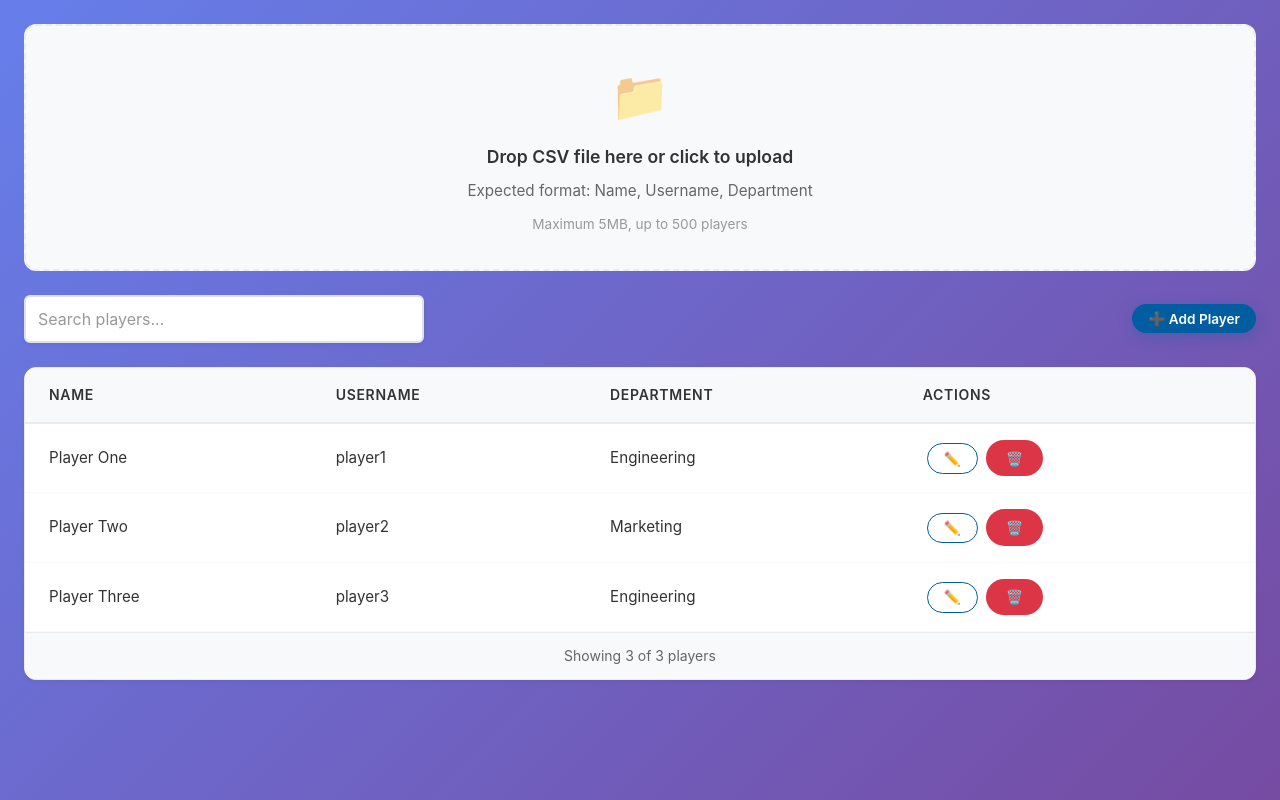
Scenario: PlayerManagement Component › Add Player › should cancel add operation
Click the button "➕ Add Player": (1194, 319) [1132,304,1256,333]
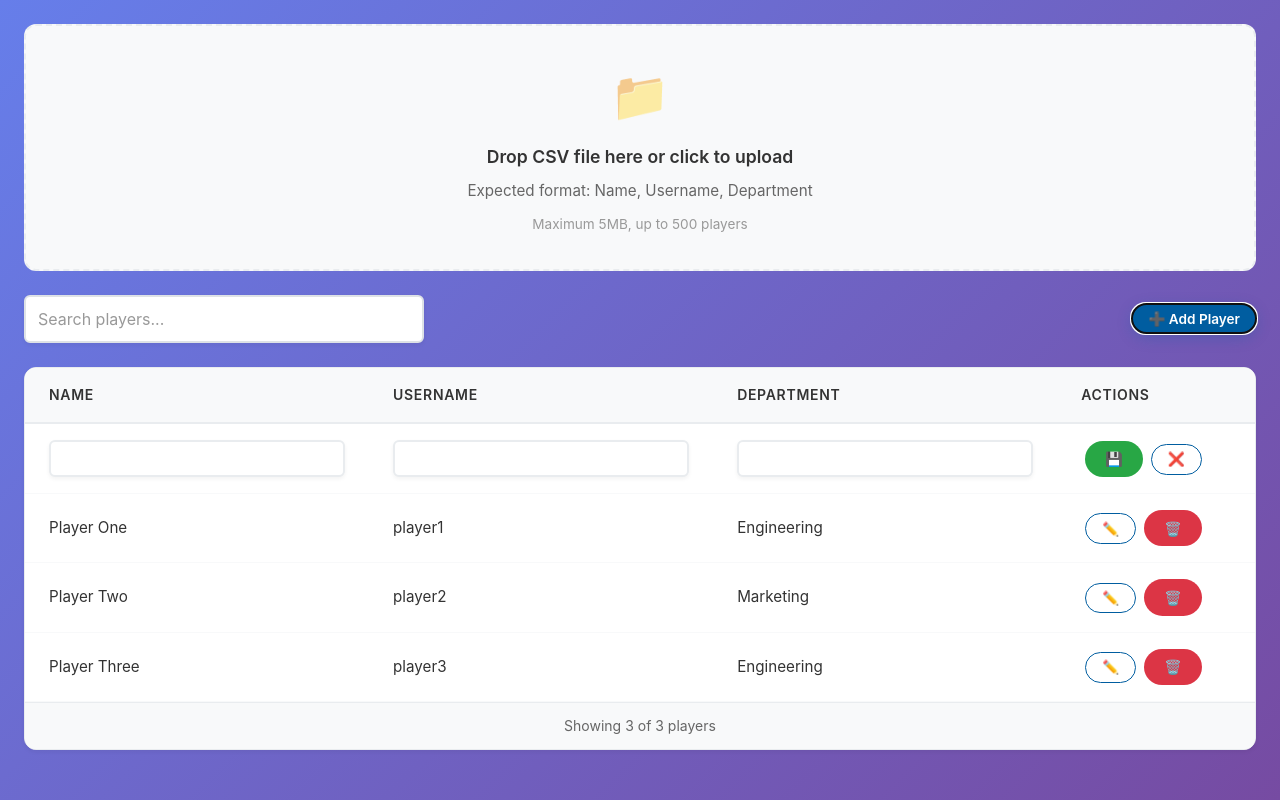
Expected: the button "💾" is shown, [1085,441,1143,477]
Click the button "❌": (1176, 459) [1151,444,1202,475]
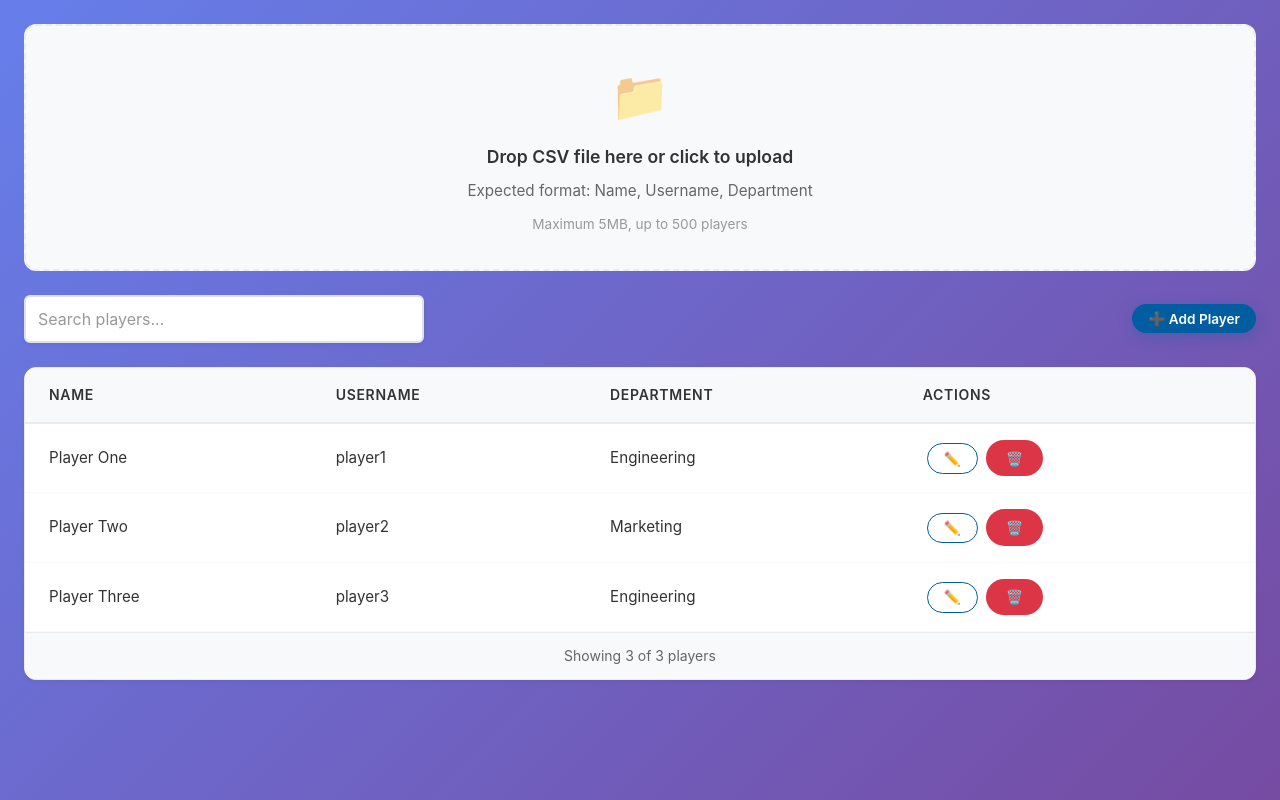
Expected: the button "💾" is gone
